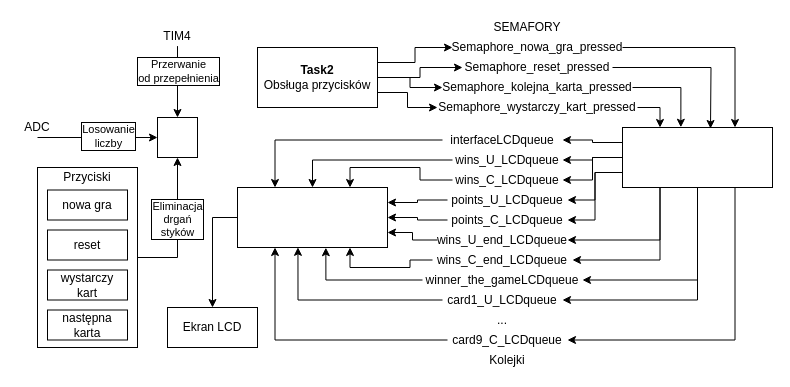
Image size: 790x387. Some labels were removed from this diagram. The shapes that lost their labels are listed below. From the top down, each one's box as (x1, y1, x2, y2) in pixels, then its label:
(156, 116, 198, 158): STM32
(622, 126, 772, 188): Task3 Zarządzanie grą (zliczanie punktów itp.)
(236, 186, 388, 248): Task1 Odczyt danych z kolejek i wyświetlanie ich na ekranie LCD
